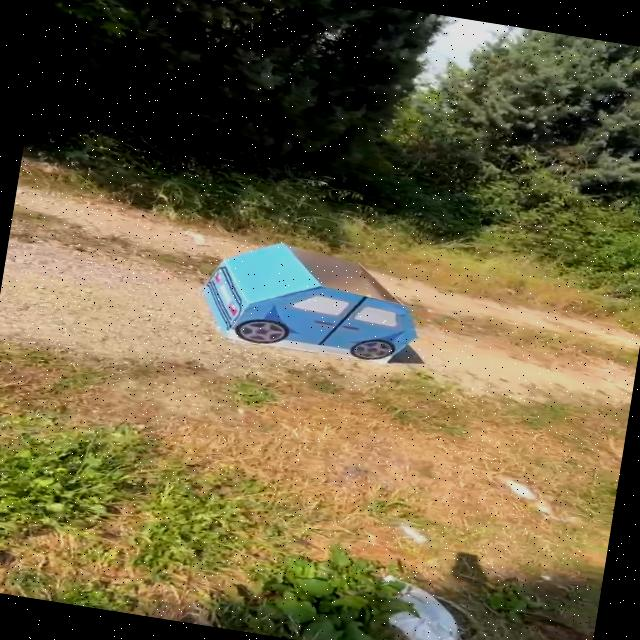blue_car: (161, 213, 447, 390)
